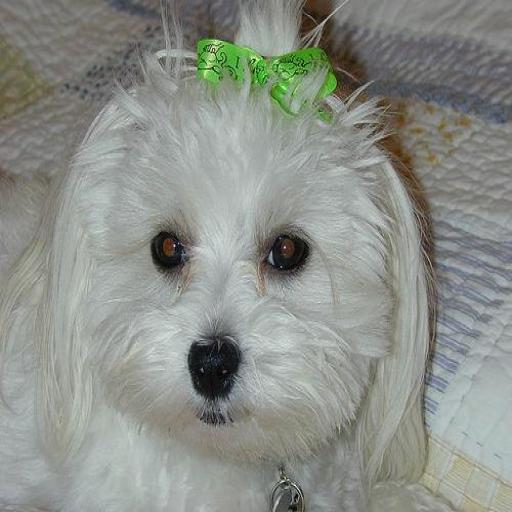dog_face: (59, 52, 423, 476)
